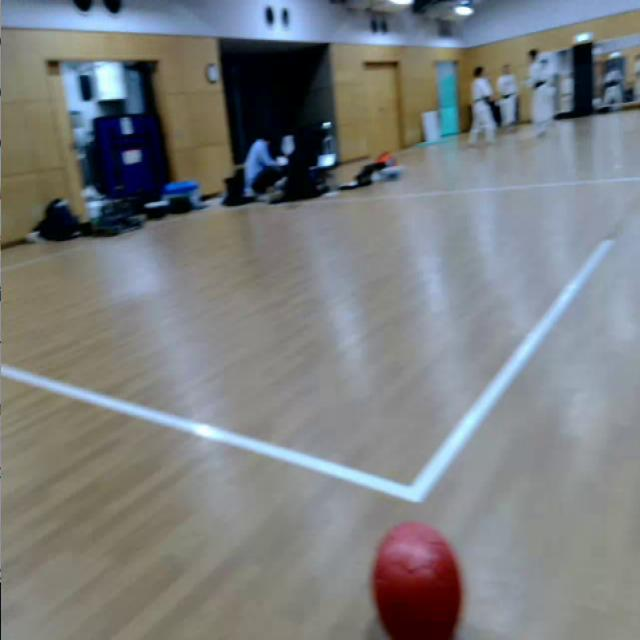red_ball: (372, 521, 462, 640)
